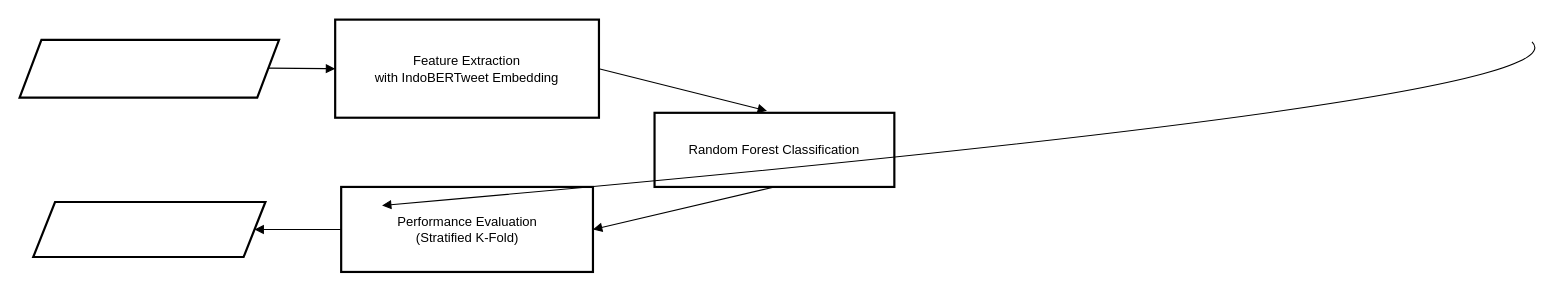
This 1554x292 diagram has some shape labels left out. Here are the shapes that lost their labels. From the top down, the box of each, then its label:
(18, 38, 280, 98): Input: Preprocessed Text Data
(32, 200, 266, 258): Output: Model Metrics
